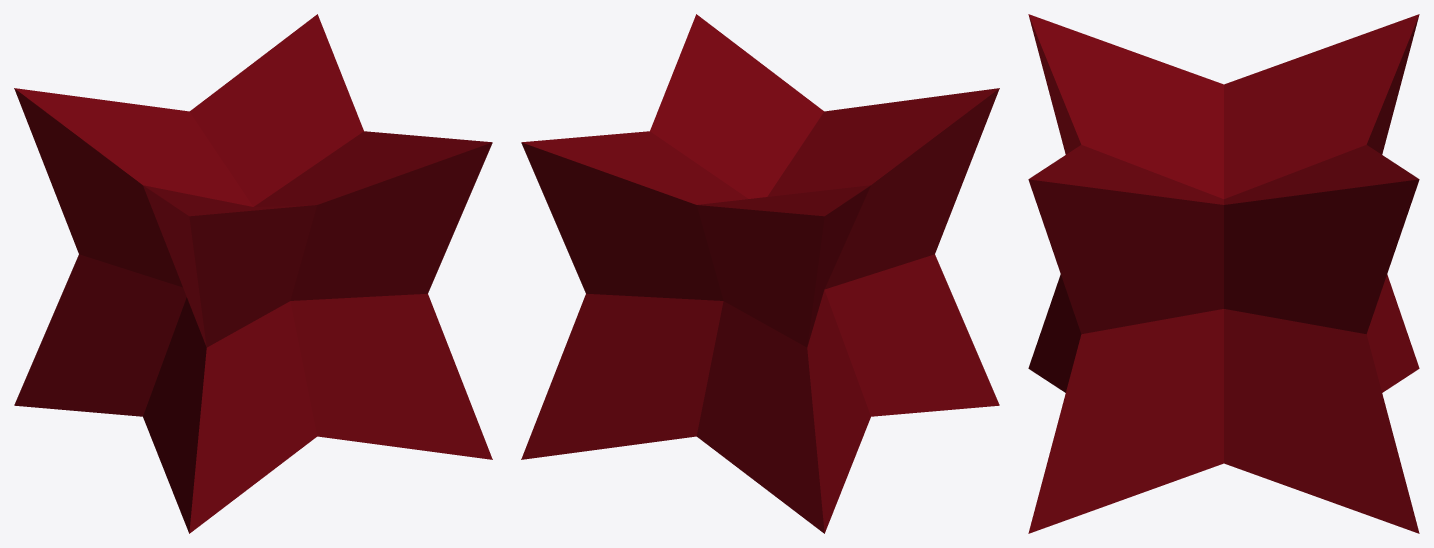
The model's file is Scrap04.fbx.
3 renders of one model, left to right at view 1: azimuth 30°, elevation 25°; view 2: azimuth 150°, elevation 25°; view 3: azimuth 270°, elevation 25°, orthographic. The views are drawn at different scales.
Visible parts, largest first — view 1: Cube; view 2: Cube; view 3: Cube.
Boxes of the visible parts, box(x1,y1,x2,y2) form: Cube: box(14, 14, 492, 533); Cube: box(521, 14, 999, 533); Cube: box(1028, 14, 1419, 533).
Bounding box in the file's own units: 117 × 117 × 117.
